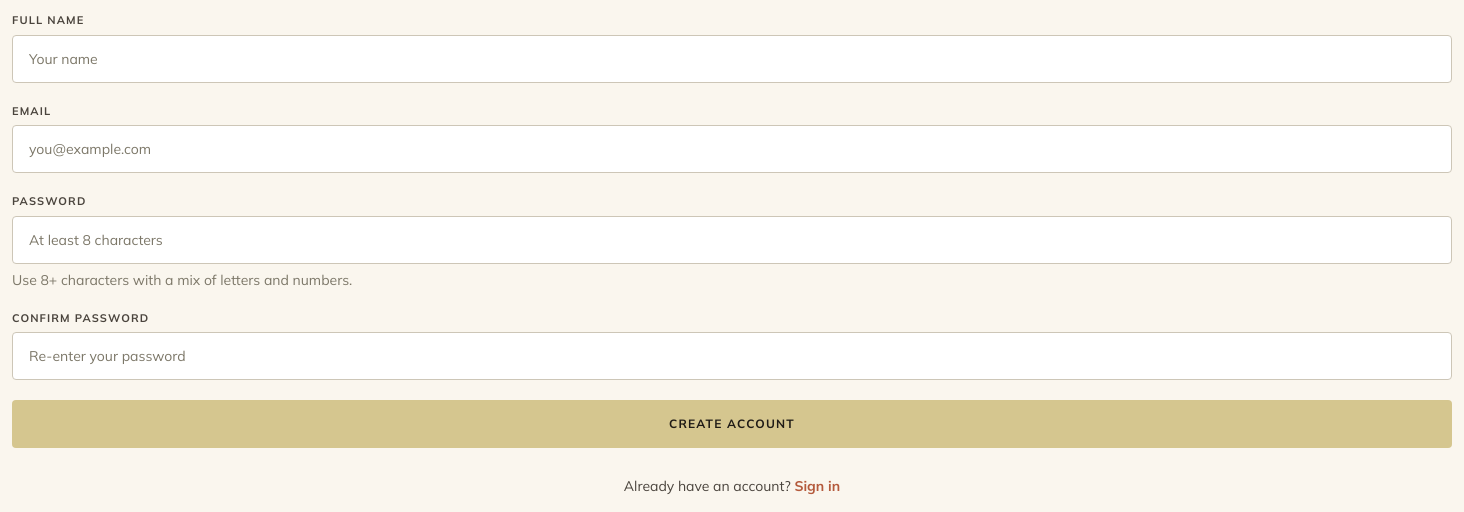
Scenario: RegisterForm › shows a password length error when password < 8 chars
Type "Jane" into the field with test id "register-name-input" at [732, 58], box [12,34,1452,82]
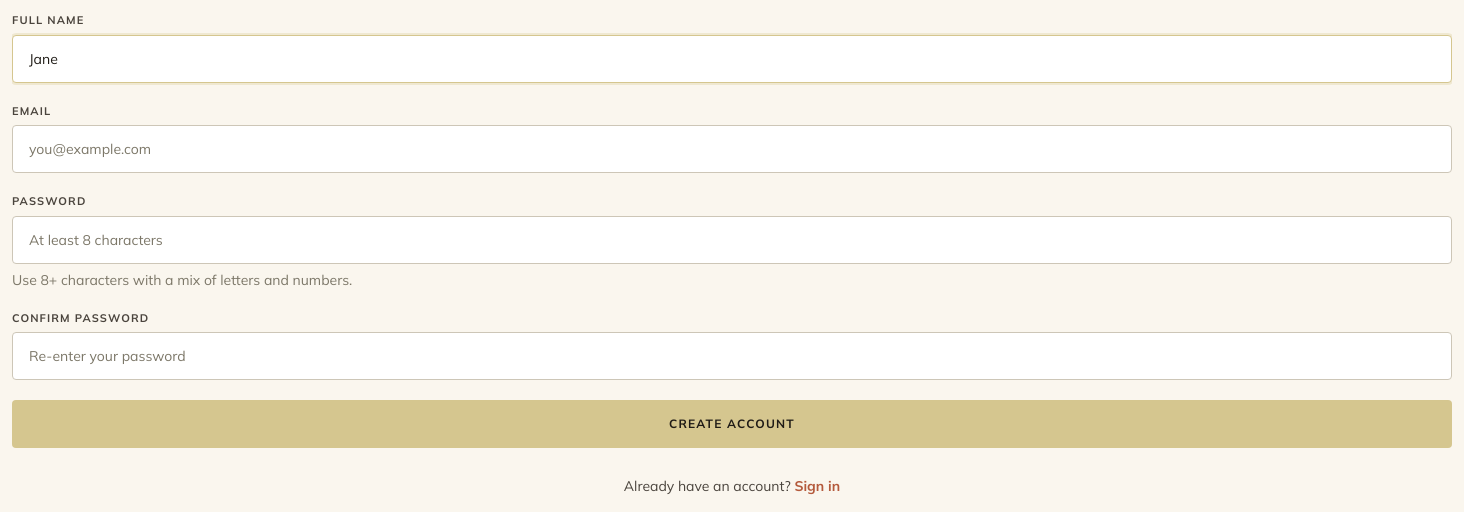
Type "jane@example.com" into the field with test id "register-email-input" at [732, 149], box [12,125,1452,173]
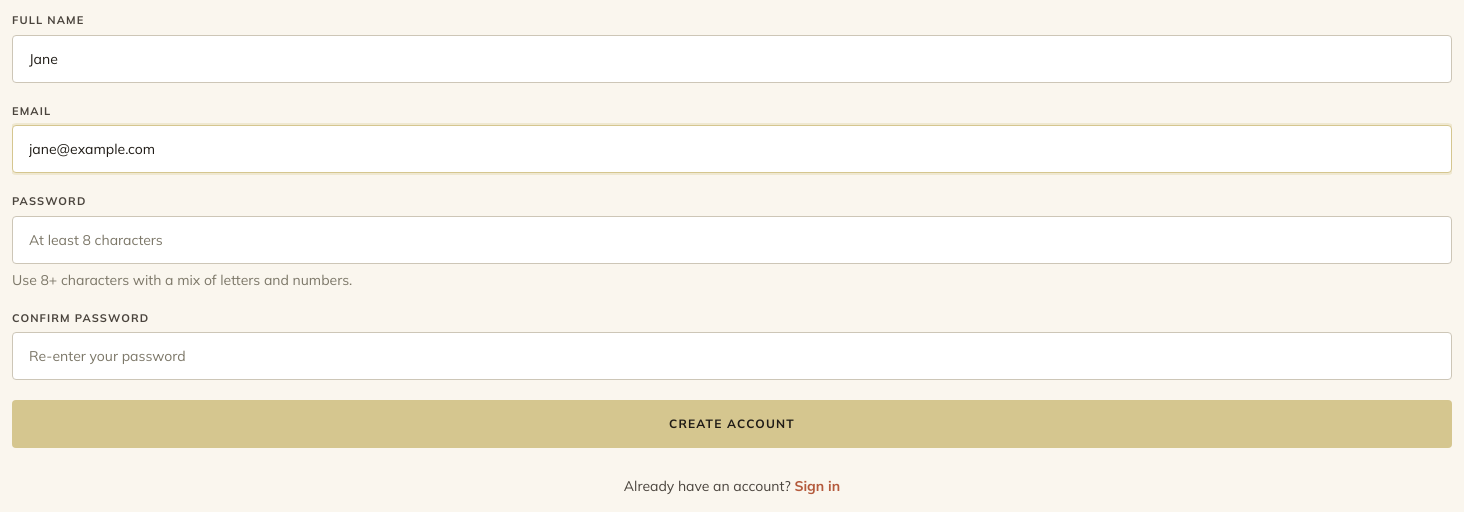
Type "short" into the password field with test id "register-password-input" at [732, 240], box [12,216,1452,264]
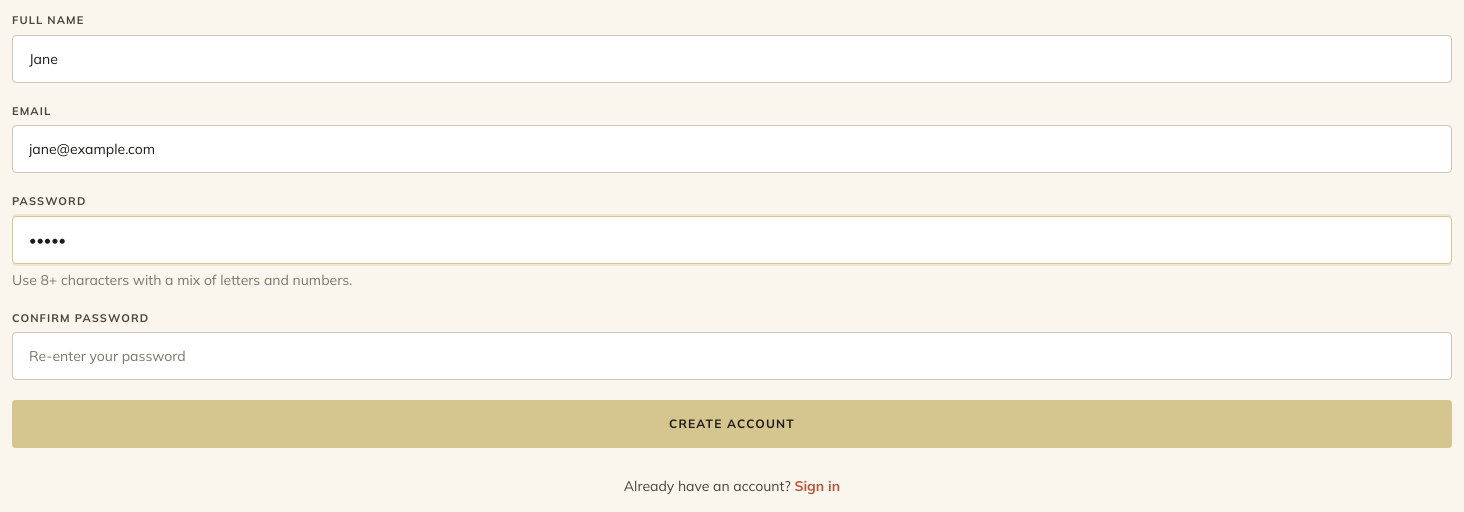
Type "short" into the password field with test id "register-confirm-password-input" at [732, 356], box [12,332,1452,380]
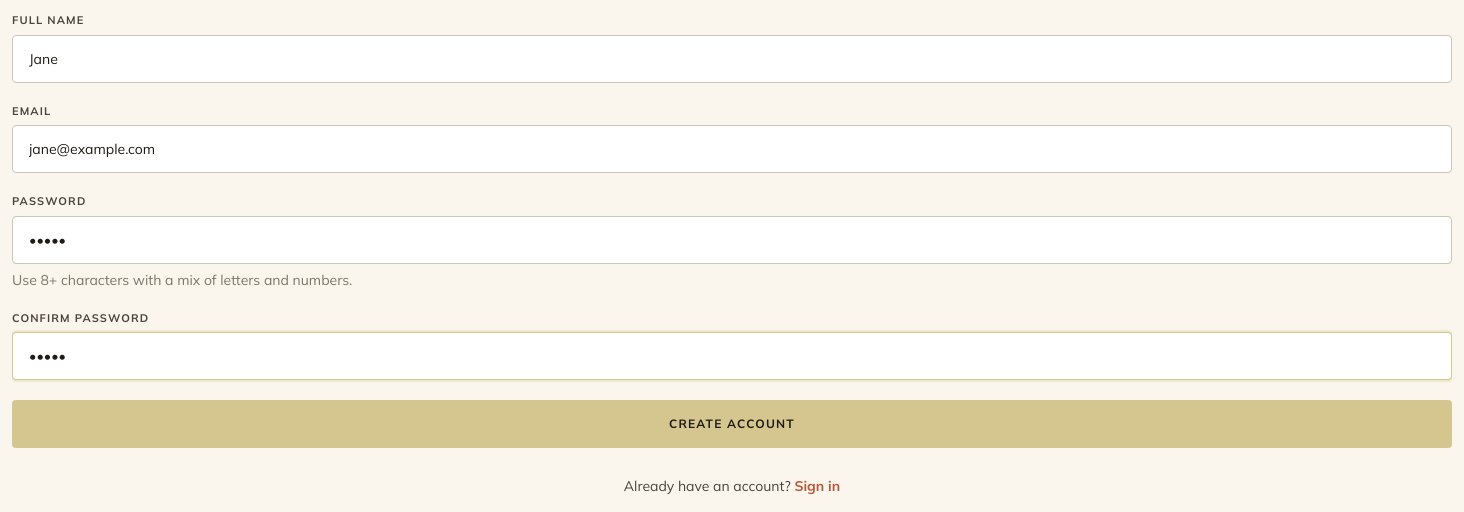
Click the button with test id "register-submit-button" at [732, 424], box [12,400,1452,448]
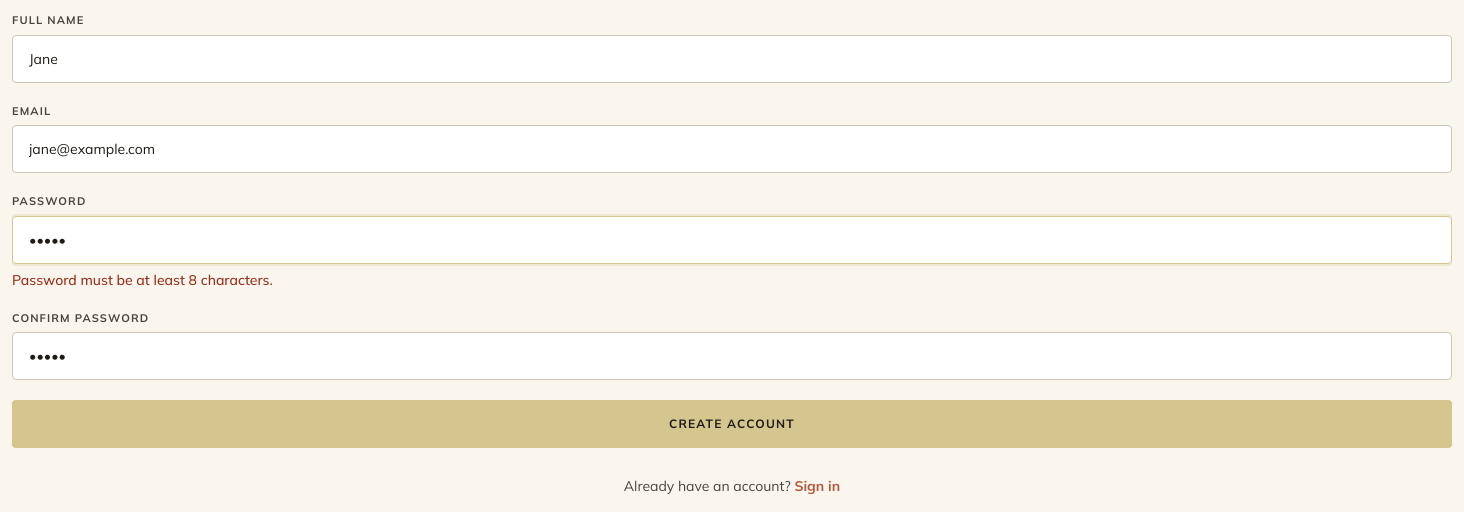
Expected: the text "Password must be at least 8 characters." is shown, [12,270,273,288]
